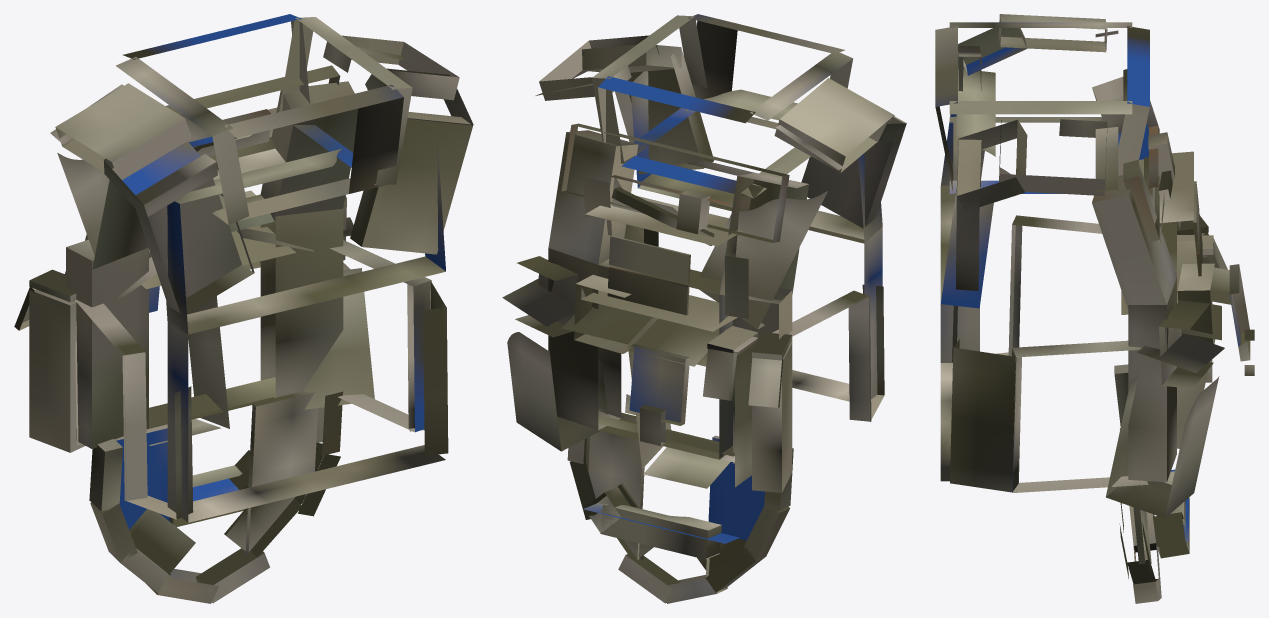
Rendered from ukrainian_veteran.obj.
The picture shows the model from 3 angles, left to right: view 1: azimuth 30°, elevation 25°; view 2: azimuth 150°, elevation 25°; view 3: azimuth 270°, elevation 25°; orthographic projection. The views are drawn at different scales.
Visible parts, largest first — view 1: plane; view 2: plane; view 3: plane.
Part boxes in pixels (<box>): plane: <box>14,14,473,603</box>; plane: <box>502,14,906,603</box>; plane: <box>935,14,1254,603</box>.
Size of the model in its own units: 0.7271 by 1.13 by 0.6118.
